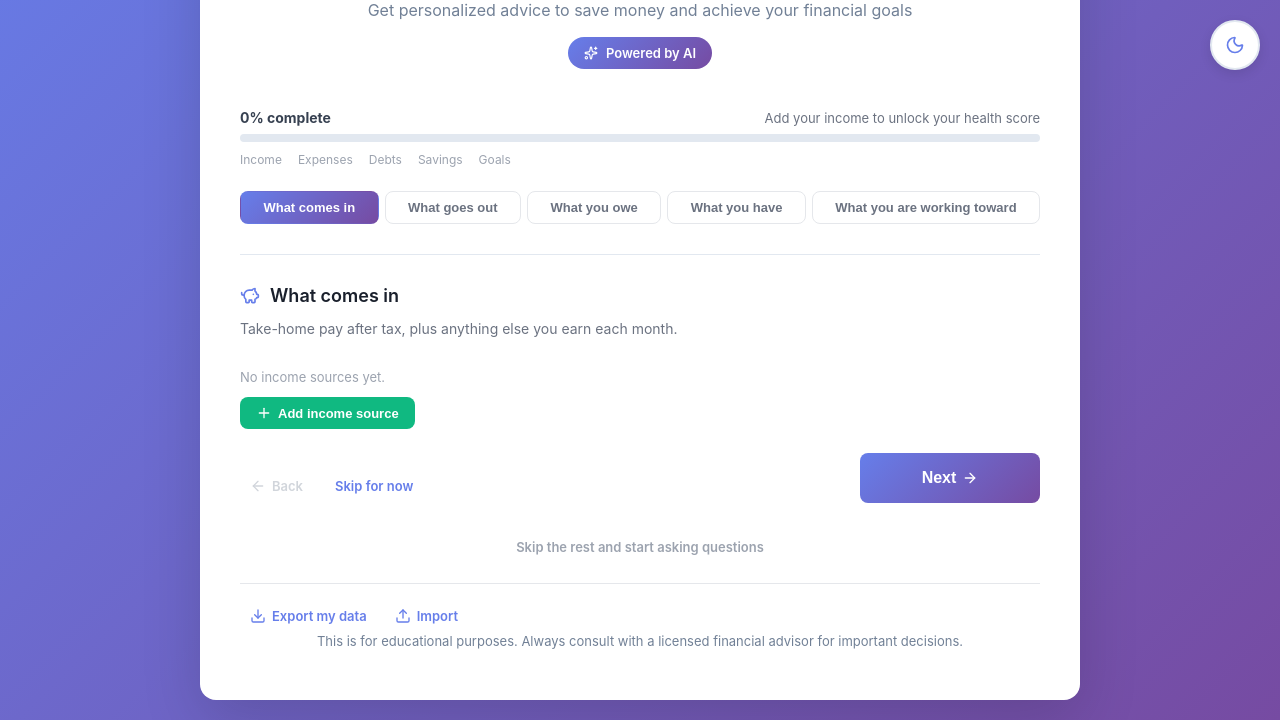
Test case: intake wizard › advances with Next and goes back
(page scrolled)
Click the button "Next" at (950, 478), box [860, 453, 1040, 503]
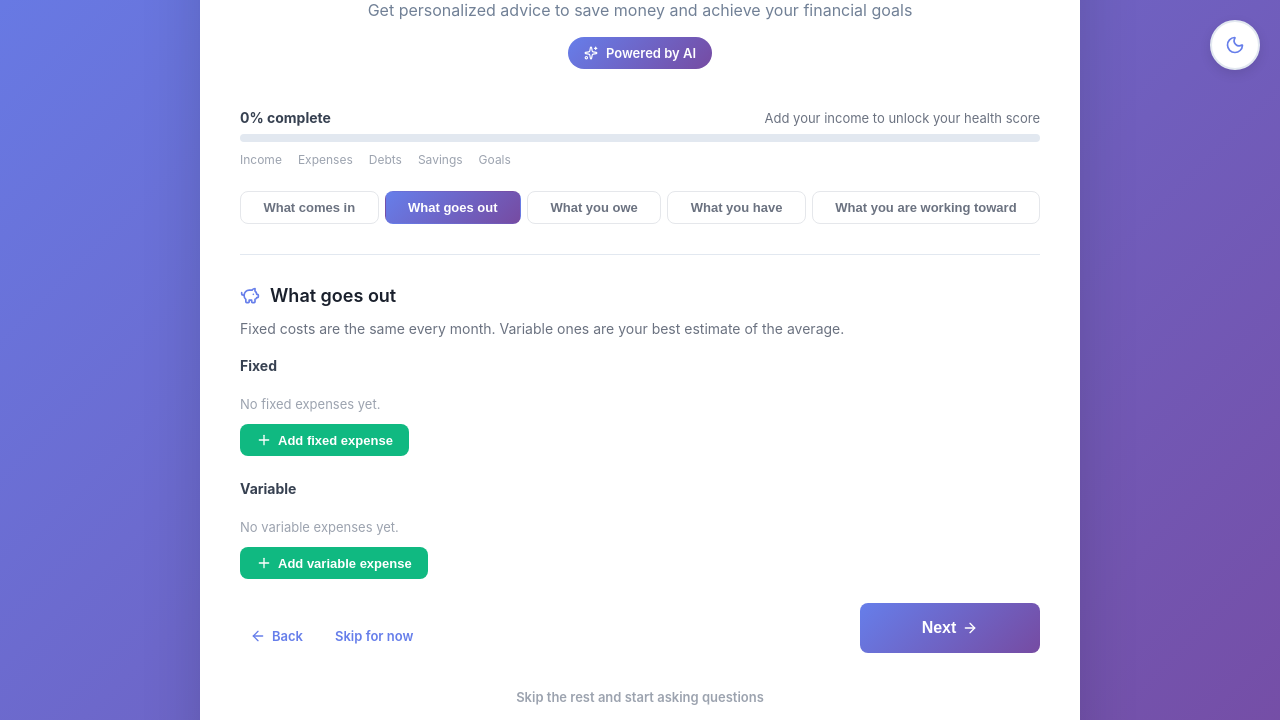
Expected: the button "Add fixed expense" is shown, [240, 424, 409, 456]
Click the button "Back" at (276, 636), box [240, 620, 313, 652]
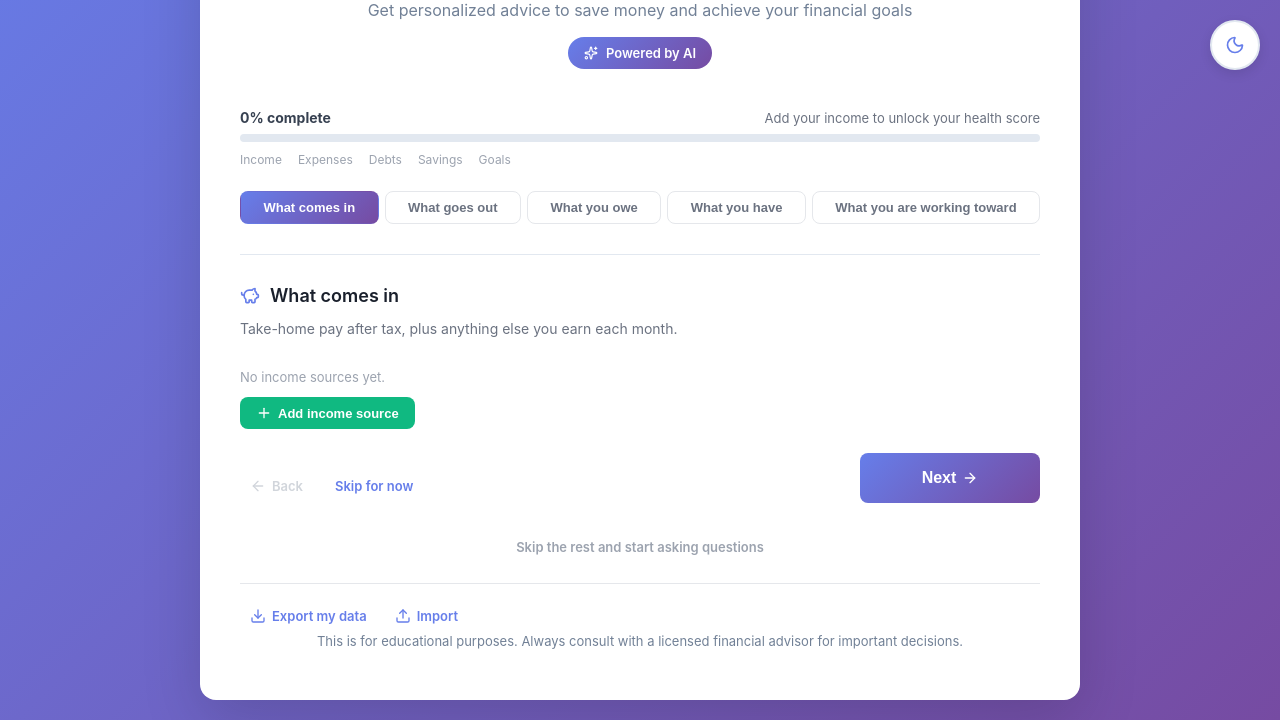
Expected: the button "Add income source" is shown, [240, 397, 415, 429]
